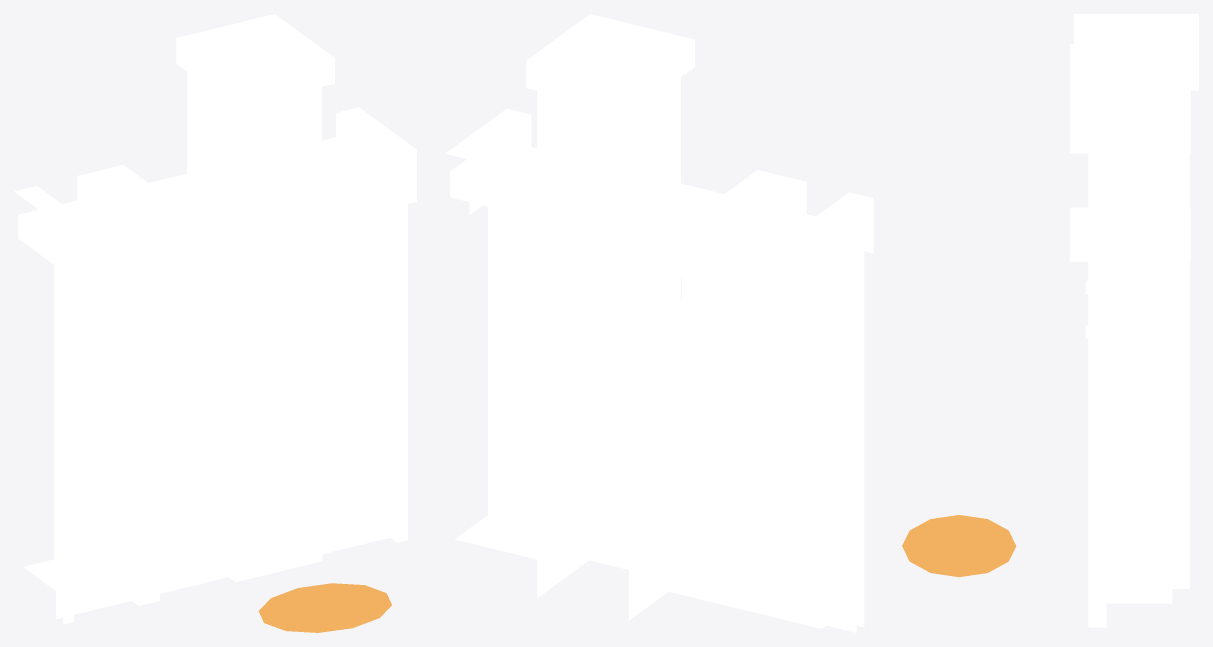
Rendered from T1_Mid_A.glb.
The picture shows the model from 3 angles, left to right: view 1: azimuth 30°, elevation 25°; view 2: azimuth 150°, elevation 25°; view 3: azimuth 270°, elevation 25°; orthographic projection. The views are drawn at different scales.
Visible parts, largest first — view 1: T1_Mid_A; view 2: T1_Mid_A; view 3: T1_Mid_A.
Part boxes in pixels (left/top/right/bottom): T1_Mid_A: left=14, top=14, right=416, bottom=632; T1_Mid_A: left=445, top=14, right=873, bottom=632; T1_Mid_A: left=902, top=14, right=1198, bottom=627.
Size of the model in its own units: 4.5 by 6.32 by 3.22.
